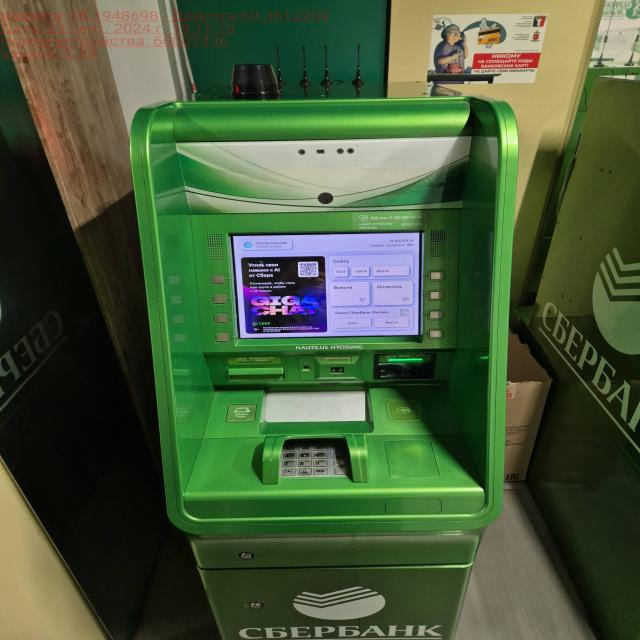bank: (125, 95, 521, 640), (519, 66, 640, 640)
